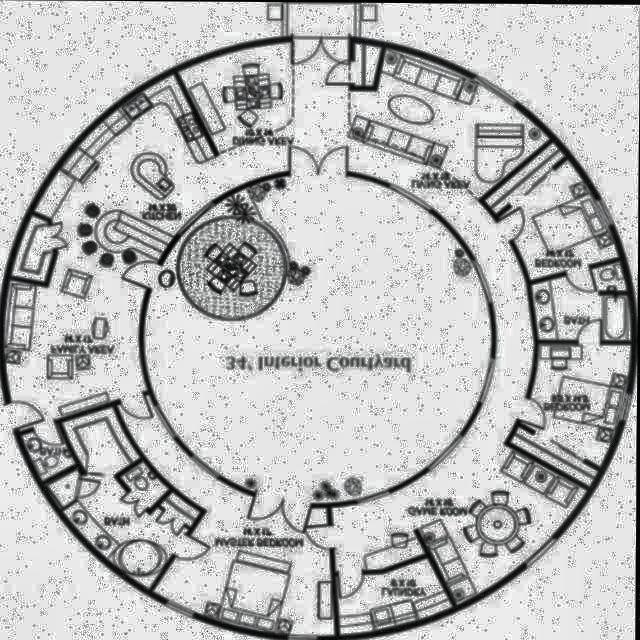room: (0, 47, 261, 505), (144, 174, 492, 501), (45, 383, 390, 640), (390, 197, 562, 540), (325, 34, 556, 247), (21, 394, 217, 600), (402, 427, 594, 618), (179, 28, 399, 191), (514, 321, 639, 467), (494, 155, 619, 289), (315, 483, 427, 585), (325, 551, 450, 636), (530, 261, 636, 354), (484, 142, 565, 213), (510, 426, 599, 485)
